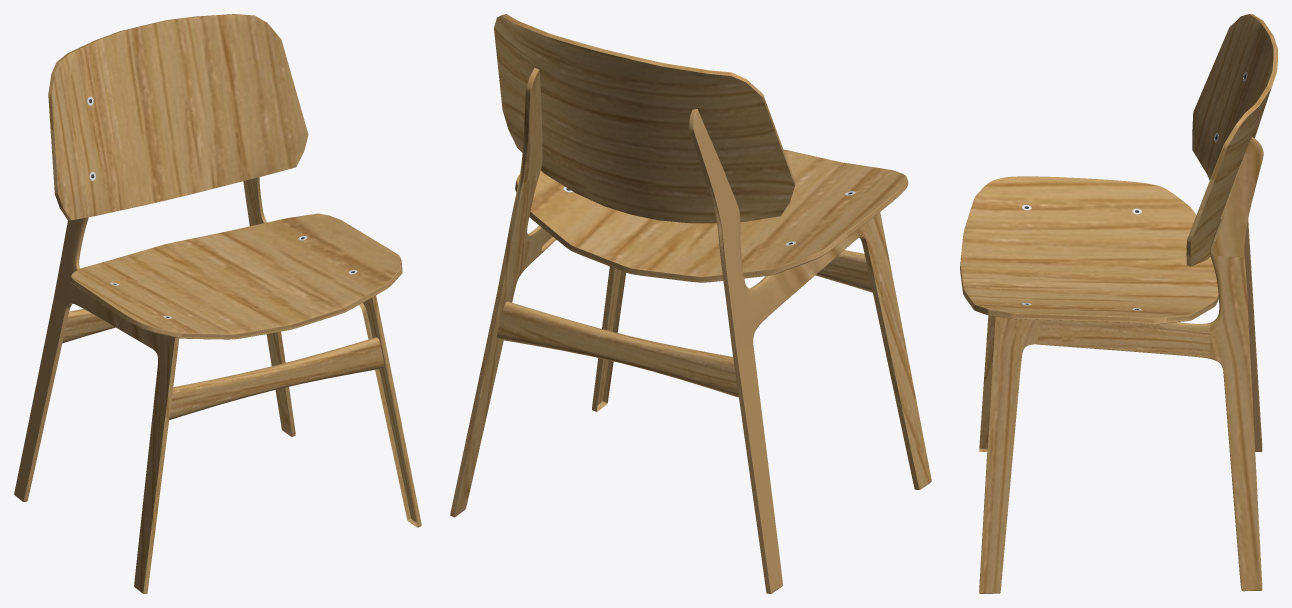
File: chairsoborg.fbx
3 views of the same model, side by side, from view 1: azimuth 30°, elevation 25°; view 2: azimuth 150°, elevation 25°; view 3: azimuth 270°, elevation 25° (orthographic). The views are drawn at different scales.
Parts seen in each view (by area): view 1: ChairSoBorg_Base, Plane, Cube, Cube.001, Cube.002; view 2: ChairSoBorg_Base, Cube, Plane, Cube.002, Cube.001; view 3: Plane, Cube, ChairSoBorg_Base.
Part boxes in pixels (box(x1,y1,x2,y2)): ChairSoBorg_Base: box(48, 14, 308, 220); Plane: box(70, 213, 402, 339); Cube: box(14, 177, 421, 593); Cube.001: box(169, 337, 384, 420); Cube.002: box(62, 309, 115, 343); ChairSoBorg_Base: box(494, 14, 795, 223); Cube: box(450, 68, 931, 593); Plane: box(515, 149, 908, 282); Cube.002: box(497, 301, 738, 397); Cube.001: box(815, 250, 872, 292); Plane: box(960, 176, 1218, 324); Cube: box(979, 137, 1263, 593); ChairSoBorg_Base: box(1186, 14, 1277, 266).
Bounding box in the file's own units: 57.6 × 85.8 × 53.39.
